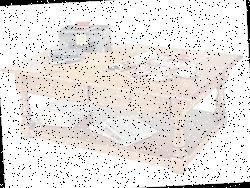Mesa: (0, 31, 249, 184)
